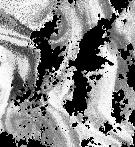CE: (8, 112, 39, 138)
